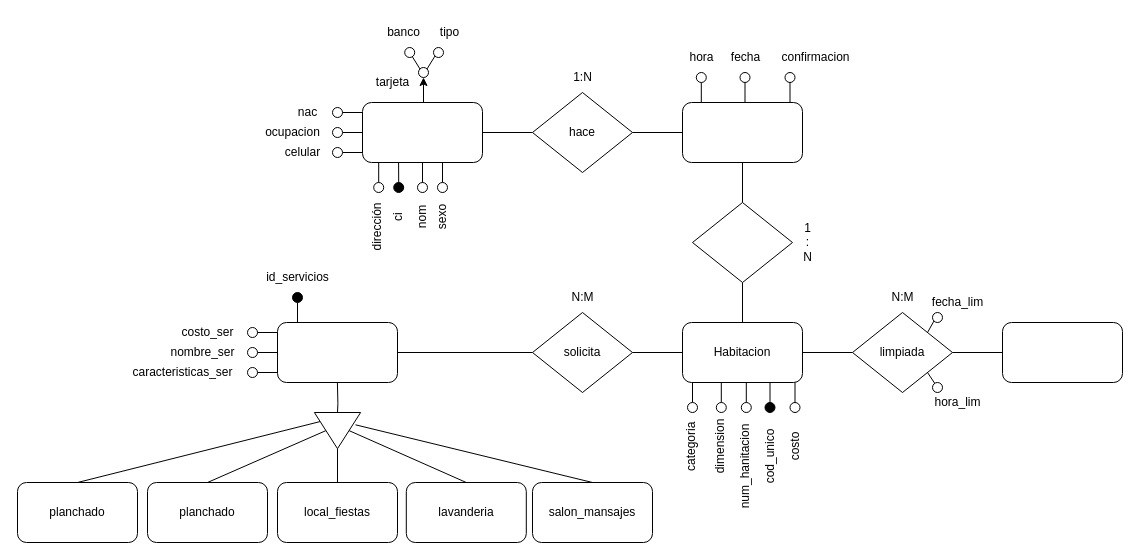
Some shapes in this 1140 by 560 pixel diagram are drawn without their labels. Here are the shapes that lost their labels. From the top down, the centre of each, then its label:
the point at 422,132: Huesped
the point at 742,132: Reserva
the point at 742,242: asociada
the point at 337,352: Servicios_ Adicionales
the point at 1062,352: Personal_ limpieza
